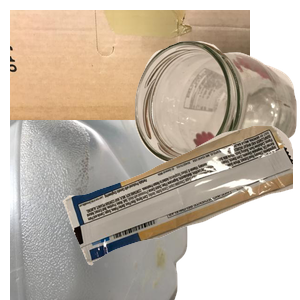cardboard: (10, 10, 250, 190)
glass: (132, 38, 300, 199)
plastic: (10, 120, 190, 300)
trash: (60, 123, 300, 300)
